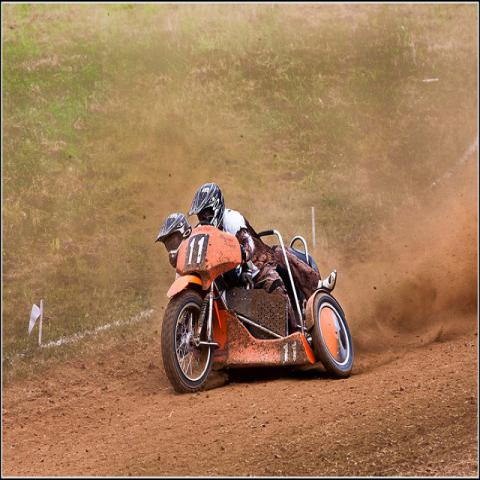motorcycle: (160, 224, 357, 395)
